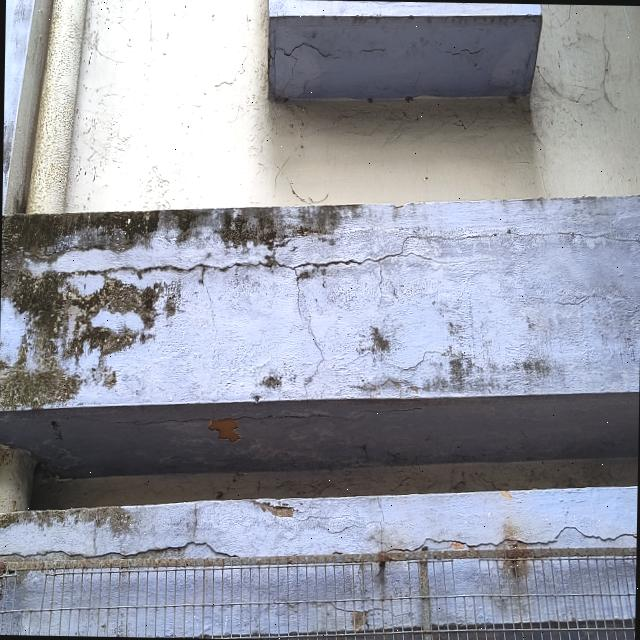Crack: (3, 225, 640, 327), (367, 519, 636, 560), (0, 537, 251, 565), (262, 36, 347, 104), (238, 404, 424, 429), (298, 301, 327, 406), (108, 411, 209, 433), (355, 39, 395, 65), (435, 40, 486, 60)
Scaling: (233, 494, 304, 522), (207, 418, 240, 441), (493, 483, 516, 508)
pollution -moisture induced blackening: (0, 205, 365, 409), (0, 506, 133, 535)
